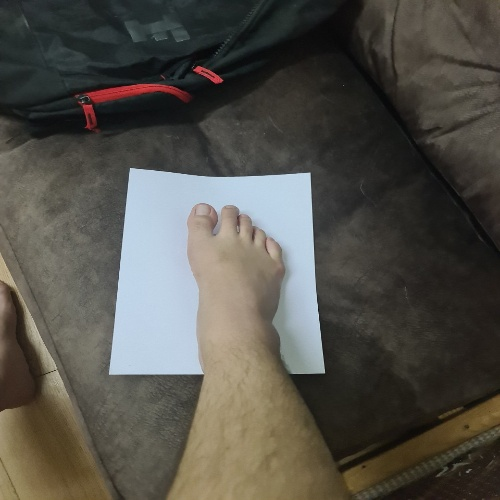Top_Foot: (101, 150, 340, 388)
